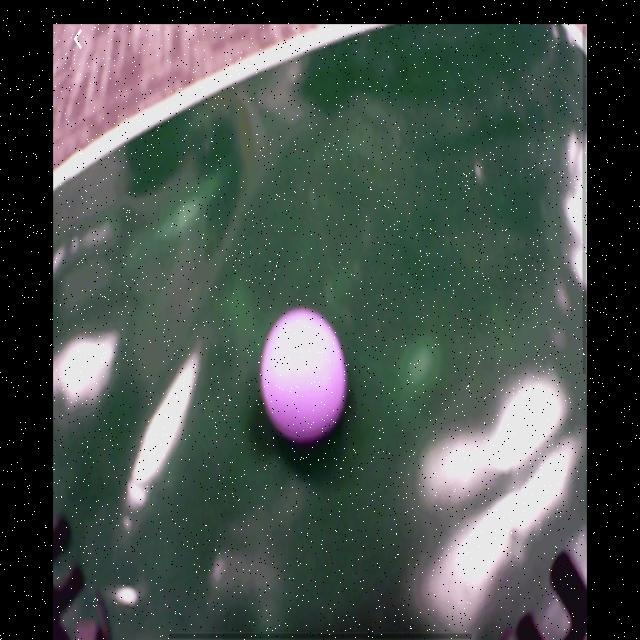ball: (261, 309, 350, 447)
